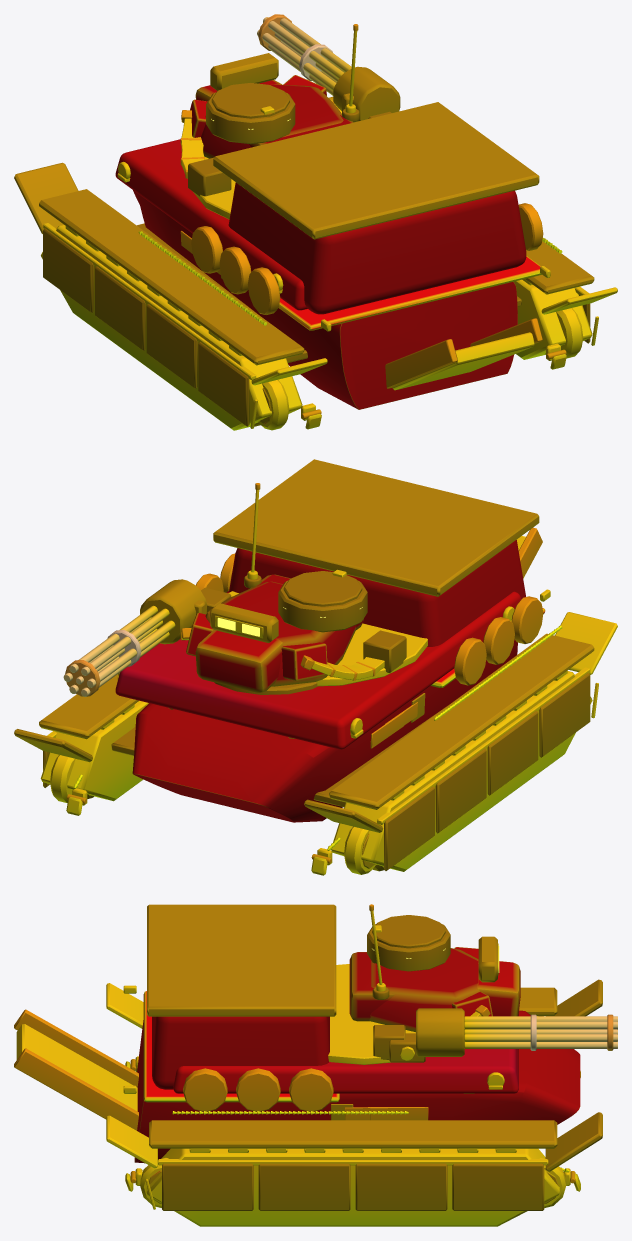
File: MinefieldSower.fbx
The picture shows the model from 3 angles, top to bottom: view 1: azimuth 30°, elevation 25°; view 2: azimuth 150°, elevation 25°; view 3: azimuth 270°, elevation 25°; orthographic projection. The views are drawn at different scales.
Parts seen in each view (by area): view 1: MinefieldSower_MinefieldSower_PrimaryArmor, MinefieldSower_MinefieldSower_LightArmor, MinefieldSower_MinefieldSower_Gunmetal, MinefieldSower_MinefieldSower_Tread, MinefieldSower_MinefieldSower_Warning, MinefieldSowerTurret_BaseShell; view 2: MinefieldSower_MinefieldSower_LightArmor, MinefieldSower_MinefieldSower_PrimaryArmor, MinefieldSower_MinefieldSower_Tread, MinefieldSower_MinefieldSower_Gunmetal, MinefieldSower_MinefieldSower_Warning, MinefieldSowerTurret_BaseShell; view 3: MinefieldSower_MinefieldSower_LightArmor, MinefieldSower_MinefieldSower_PrimaryArmor, MinefieldSower_MinefieldSower_Gunmetal, MinefieldSower_MinefieldSower_Tread, MinefieldSower_MinefieldSower_Warning, MinefieldSowerTurret_BaseShell.
Boxes of the visible parts, box(x1,y1,x2,y2) form: MinefieldSower_MinefieldSower_PrimaryArmor: box(43, 83, 590, 426); MinefieldSower_MinefieldSower_LightArmor: box(14, 53, 594, 365); MinefieldSower_MinefieldSower_Gunmetal: box(43, 14, 589, 430); MinefieldSower_MinefieldSower_Tread: box(41, 225, 617, 430); MinefieldSower_MinefieldSower_Warning: box(180, 14, 566, 418); MinefieldSowerTurret_BaseShell: box(201, 84, 343, 158); MinefieldSower_MinefieldSower_LightArmor: box(14, 459, 594, 832); MinefieldSower_MinefieldSower_PrimaryArmor: box(43, 540, 590, 870); MinefieldSower_MinefieldSower_Tread: box(40, 612, 617, 871); MinefieldSower_MinefieldSower_Gunmetal: box(47, 536, 590, 875); MinefieldSower_MinefieldSower_Warning: box(65, 527, 543, 863); MinefieldSowerTurret_BaseShell: box(205, 581, 356, 686); MinefieldSower_MinefieldSower_LightArmor: box(147, 904, 602, 1171); MinefieldSower_MinefieldSower_PrimaryArmor: box(134, 915, 580, 1210); MinefieldSower_MinefieldSower_Gunmetal: box(16, 925, 617, 1207); MinefieldSower_MinefieldSower_Tread: box(106, 983, 559, 1226); MinefieldSower_MinefieldSower_Warning: box(14, 1005, 613, 1183); MinefieldSowerTurret_BaseShell: box(369, 948, 479, 1032).
Size of the model in its own units: 267 by 213 by 433.
